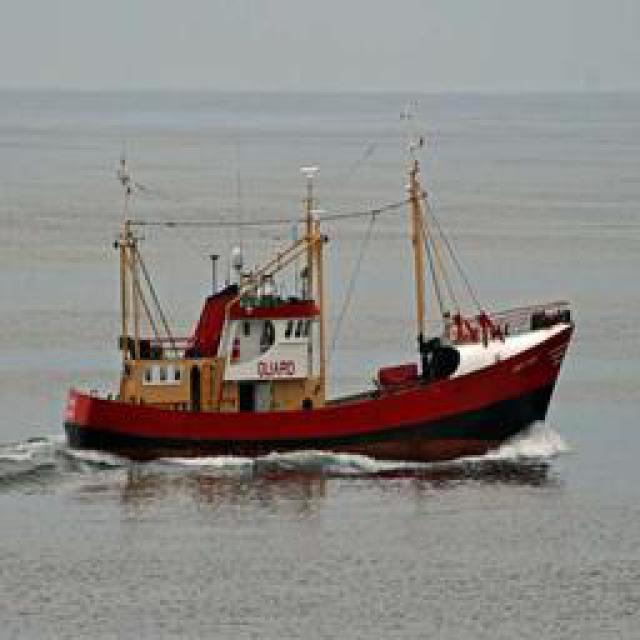Ship: (80, 122, 583, 460)
